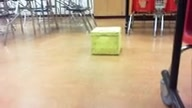cube: (90, 27, 120, 55)
